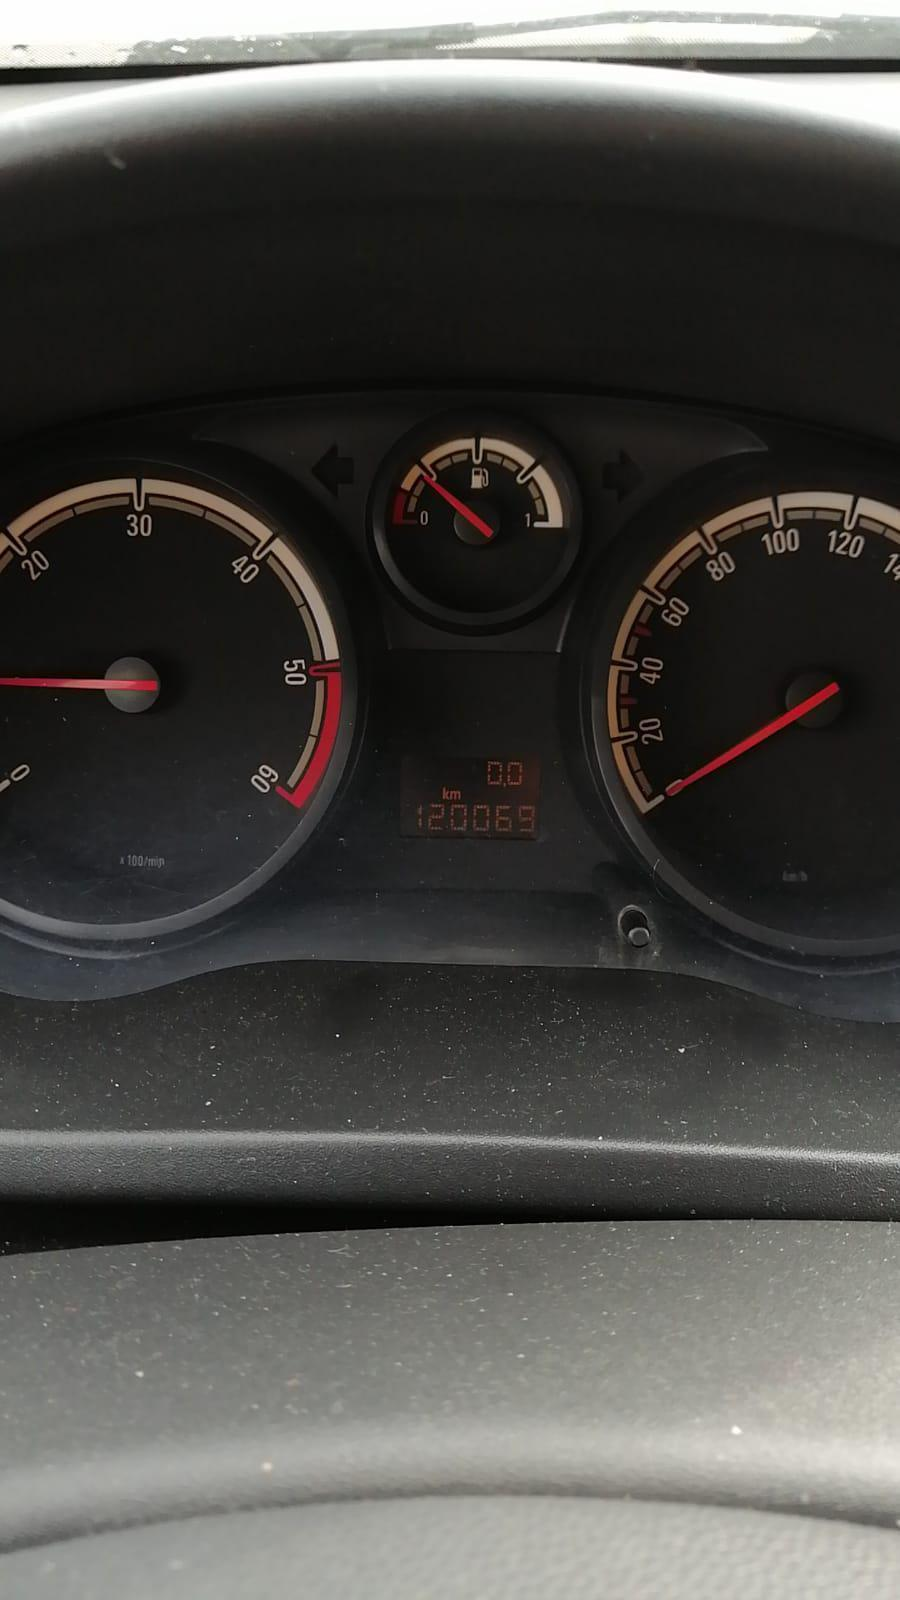,: (502, 782, 505, 788)
0: (451, 803, 468, 831), (473, 804, 490, 831), (486, 760, 503, 785), (505, 762, 523, 785)
1: (416, 803, 424, 829)
2: (427, 803, 445, 830)
6: (495, 805, 512, 831)
9: (518, 805, 535, 831)
X: (442, 786, 451, 800), (449, 790, 462, 800)
odometer: (395, 749, 547, 844)
